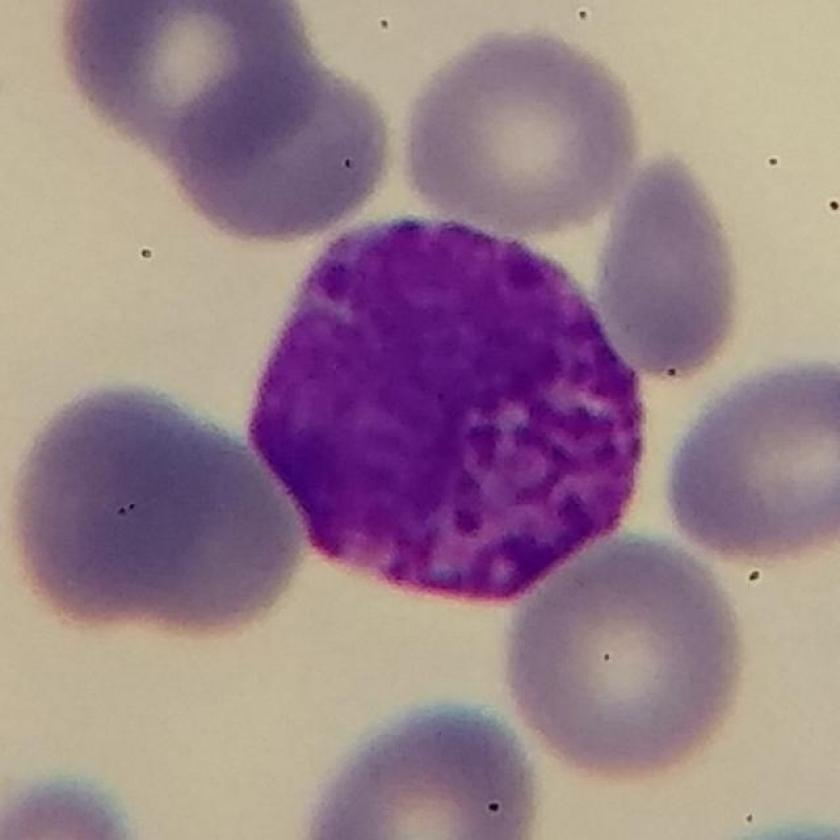basophil: (248, 201, 655, 606)
